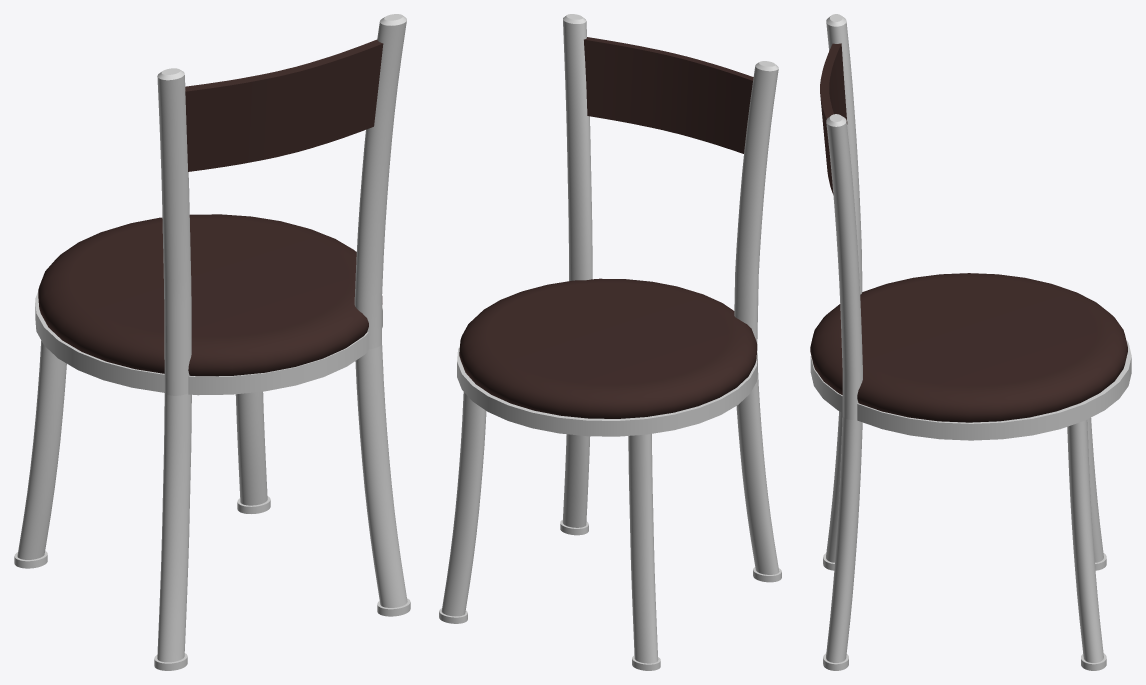
File: Chaise4_4.fbx
The picture shows the model from 3 angles, left to right: view 1: azimuth 30°, elevation 25°; view 2: azimuth 150°, elevation 25°; view 3: azimuth 270°, elevation 25°; orthographic projection. The views are drawn at different scales.
Visible parts, largest first — view 1: pCylinder1681, pCube2685, pCylinder1674, pCylinder1675, pCylinder1678, pCylinder1677, pCylinder1680, pCylinder1673, pCylinder1676; view 2: pCylinder1681, pCube2685, pCylinder1674, pCylinder1675, pCylinder1680, pCylinder1673, pCylinder1676, pCylinder1678, pCylinder1677; view 3: pCylinder1681, pCylinder1675, pCylinder1680, pCylinder1677, pCylinder1676, pCylinder1674, pCube2685, pCylinder1678, pCylinder1673.
Part boxes in pixels (box(x1,y1,x2,y2)): pCylinder1681: box(38, 214, 382, 376); pCube2685: box(185, 39, 383, 171); pCylinder1674: box(157, 68, 191, 395); pCylinder1675: box(354, 14, 406, 349); pCylinder1678: box(154, 393, 191, 670); pCylinder1677: box(355, 344, 410, 616); pCylinder1680: box(35, 291, 382, 395); pCylinder1673: box(14, 340, 66, 568); pCylinder1676: box(235, 391, 270, 513); pCylinder1681: box(459, 278, 757, 418); pCube2685: box(584, 37, 753, 153); pCylinder1674: box(734, 61, 778, 343); pCylinder1675: box(563, 14, 592, 281); pCylinder1680: box(457, 346, 757, 436); pCylinder1673: box(628, 434, 660, 670); pCylinder1676: box(439, 392, 486, 623); pCylinder1678: box(736, 370, 781, 582); pCylinder1677: box(560, 434, 590, 535); pCylinder1681: box(810, 273, 1127, 422); pCylinder1675: box(826, 114, 862, 419); pCylinder1680: box(810, 340, 1131, 440); pCylinder1677: box(823, 416, 862, 670); pCylinder1676: box(1067, 420, 1106, 670); pCylinder1674: box(826, 14, 862, 294); pCube2685: box(820, 43, 847, 194); pCylinder1678: box(823, 411, 842, 570); pCylinder1673: box(1087, 417, 1106, 570).
Bounding box in the file's own units: 44.91 × 84.31 × 44.99.
